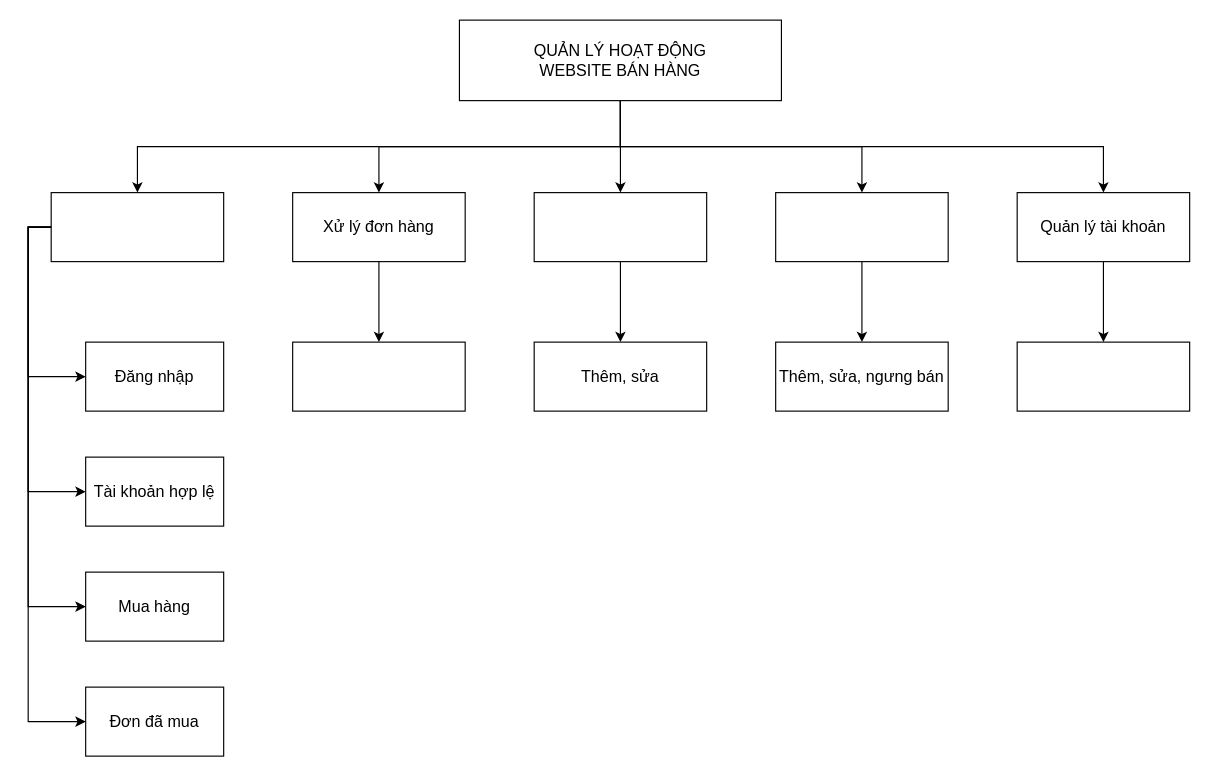
Image size: 1210x776. Some labels were removed from this diagram. Each missing label, with the centre of its shape:
"Khóa, mở tài khoản" goes at (1103,376).
"Quản lý danh mục" goes at (620,226).
"Quản lý sản phẩm" goes at (861,226).
"Xác nhận đơn hàng" goes at (378,376).
"Đặt hàng" goes at (137,226).
